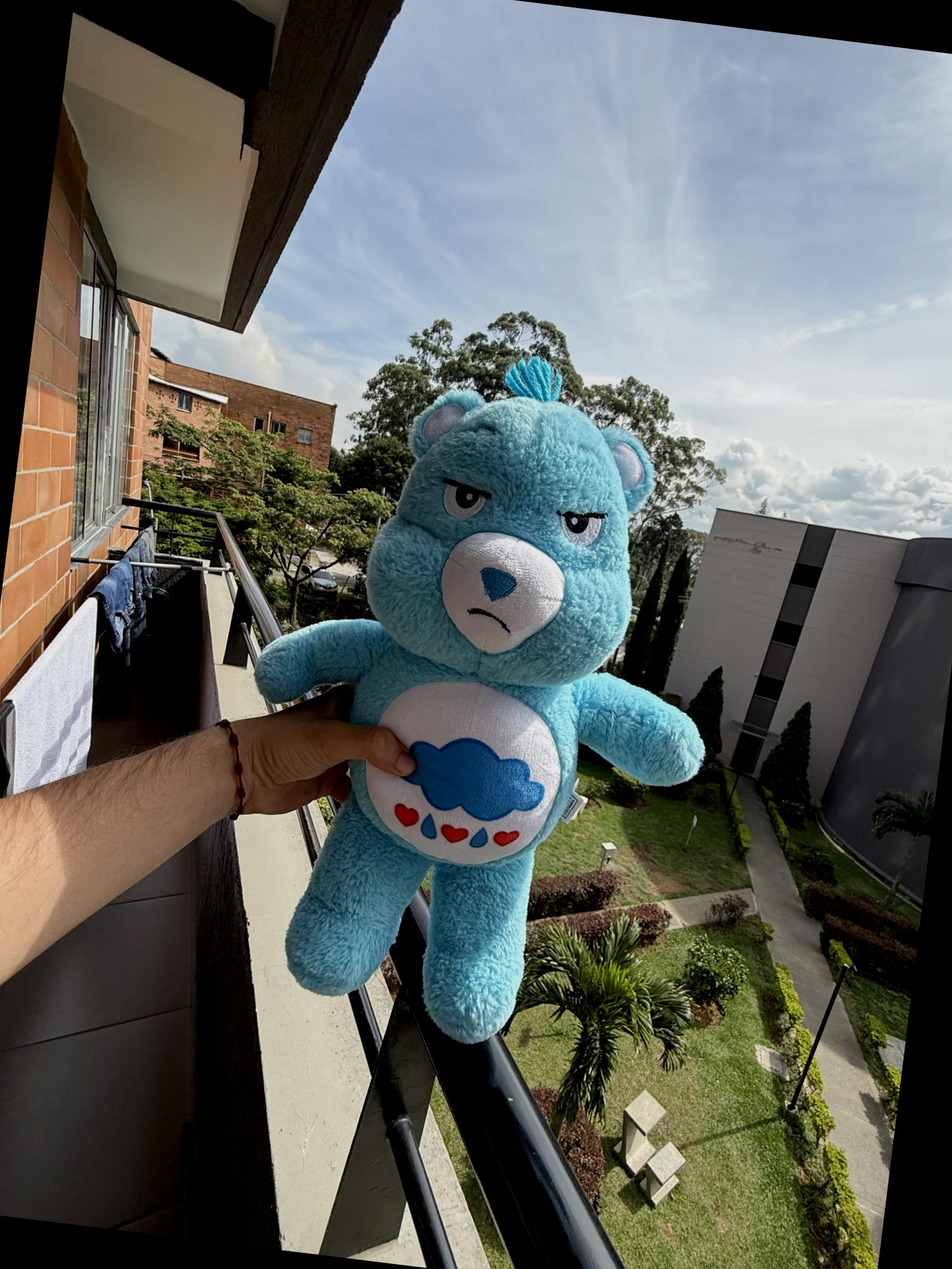peluche_Juan Jose: (209, 323, 749, 1071)
